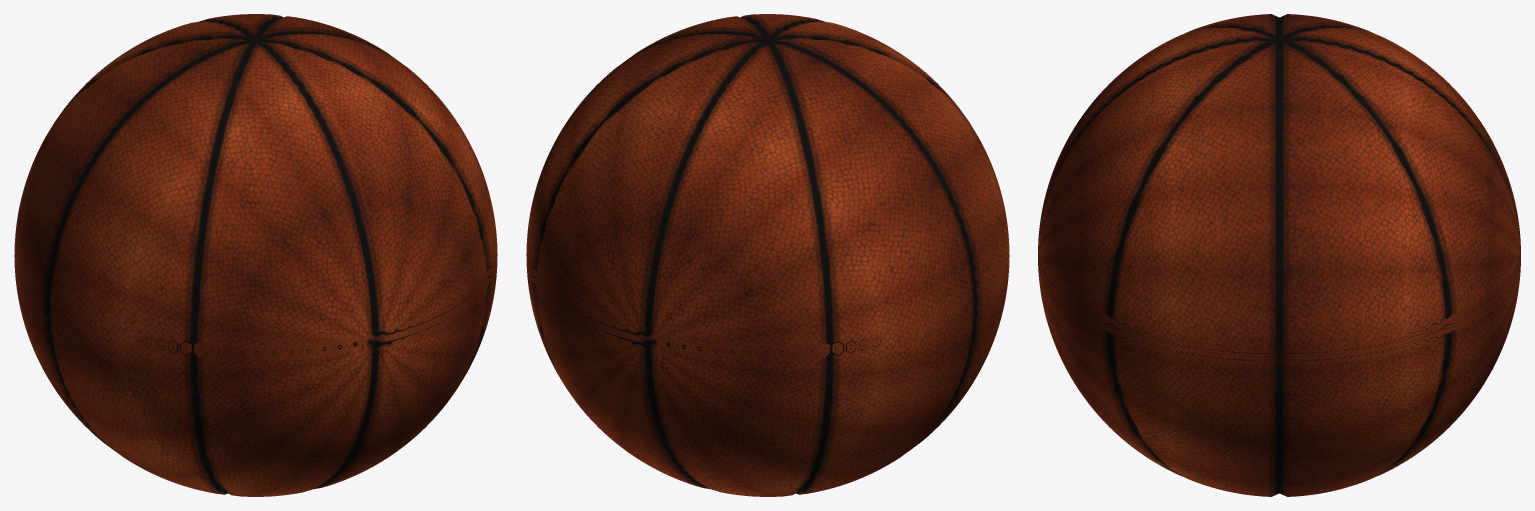
3 views of the same model, side by side, from view 1: azimuth 30°, elevation 25°; view 2: azimuth 150°, elevation 25°; view 3: azimuth 270°, elevation 25° (orthographic).
Size of the model in its own units: 0.2419 by 0.2409 by 0.2418.
Materials: 1 (1 with a texture image).
